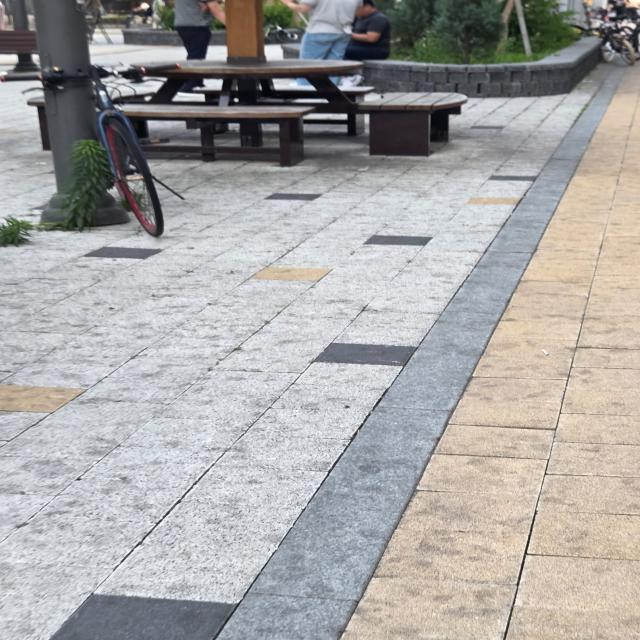bicycle: (14, 52, 196, 268)
